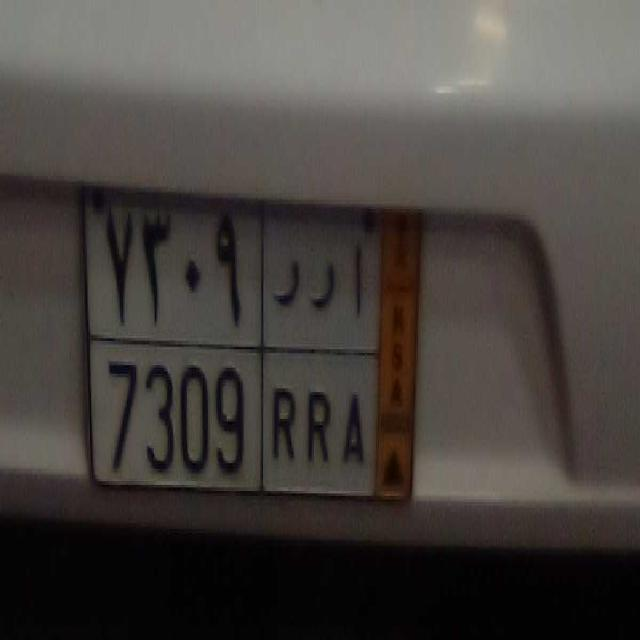license_plate: (87, 336, 376, 495)
